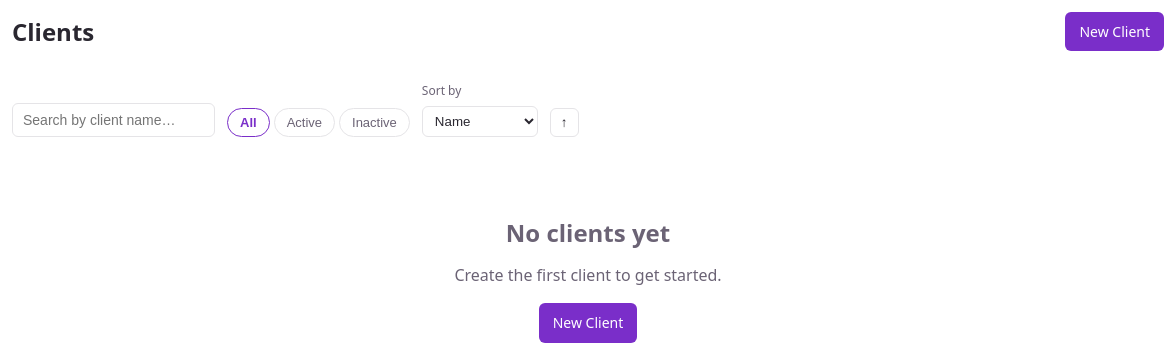
Scenario: ClientsListPage filters › distinguishes "no clients match this filter" from "no clients exist"
Check: the heading "No clients yet" is shown, box [506,216,670,249]
Click the button "Active" at (304, 123), box [274,108,335,137]
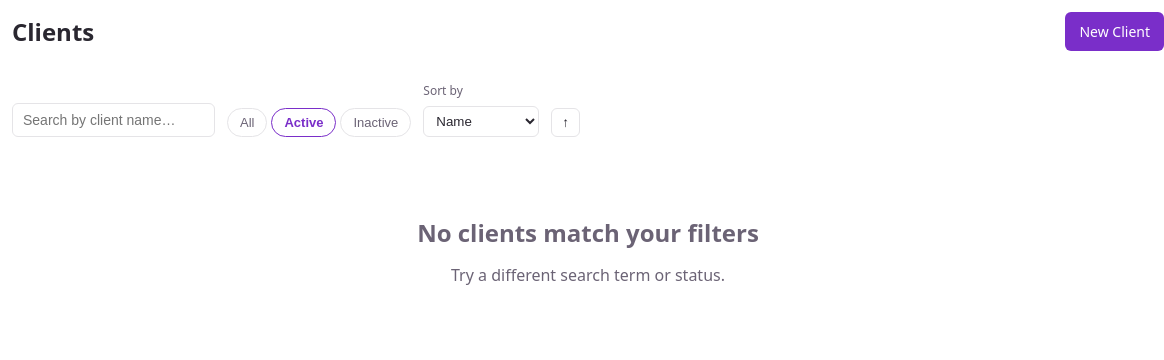
Check: the heading "No clients match your filters" is shown, box [417,216,759,249]
